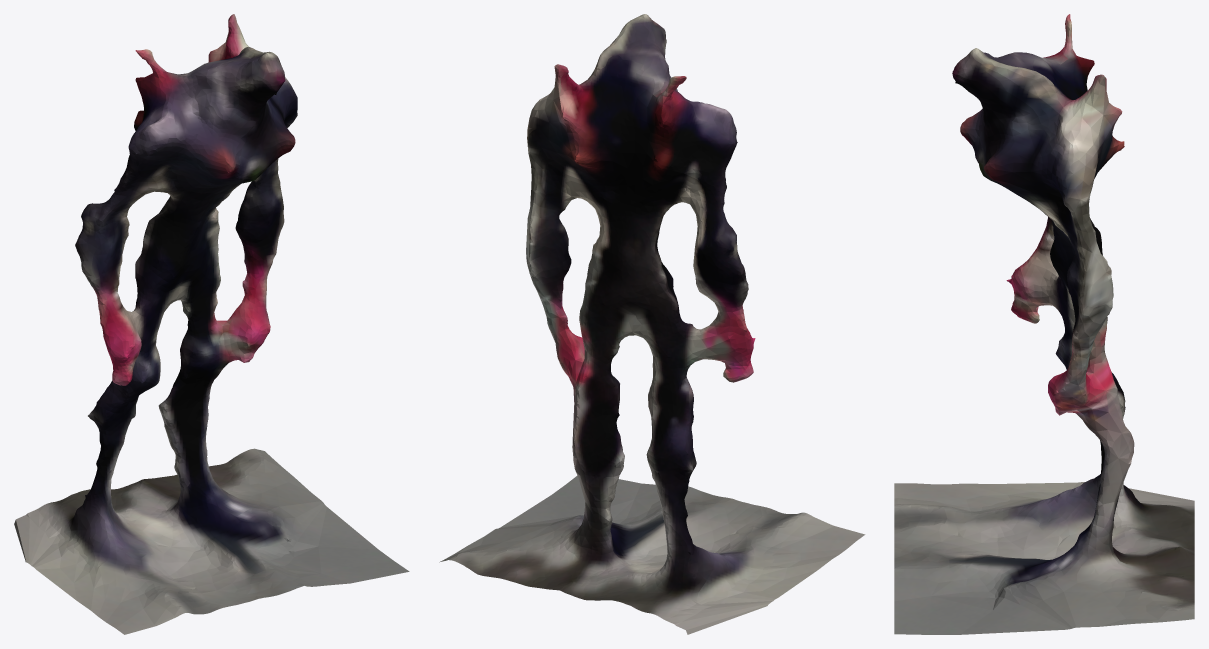
Rendered from Ben 10.glb.
3 views of the same model, side by side, from view 1: azimuth 30°, elevation 25°; view 2: azimuth 150°, elevation 25°; view 3: azimuth 270°, elevation 25° (orthographic). The views are drawn at different scales.
Visible parts, largest first — view 1: mesh; view 2: mesh; view 3: mesh.
Part boxes in pixels (x1,y1,x2,y2): mesh: (14,14,409,634); mesh: (439,14,865,634); mesh: (894,14,1194,634).
Bounding box in the file's own units: 0.0551 × 0.095 × 0.0484.
Materials: 1 (1 with a texture image).
